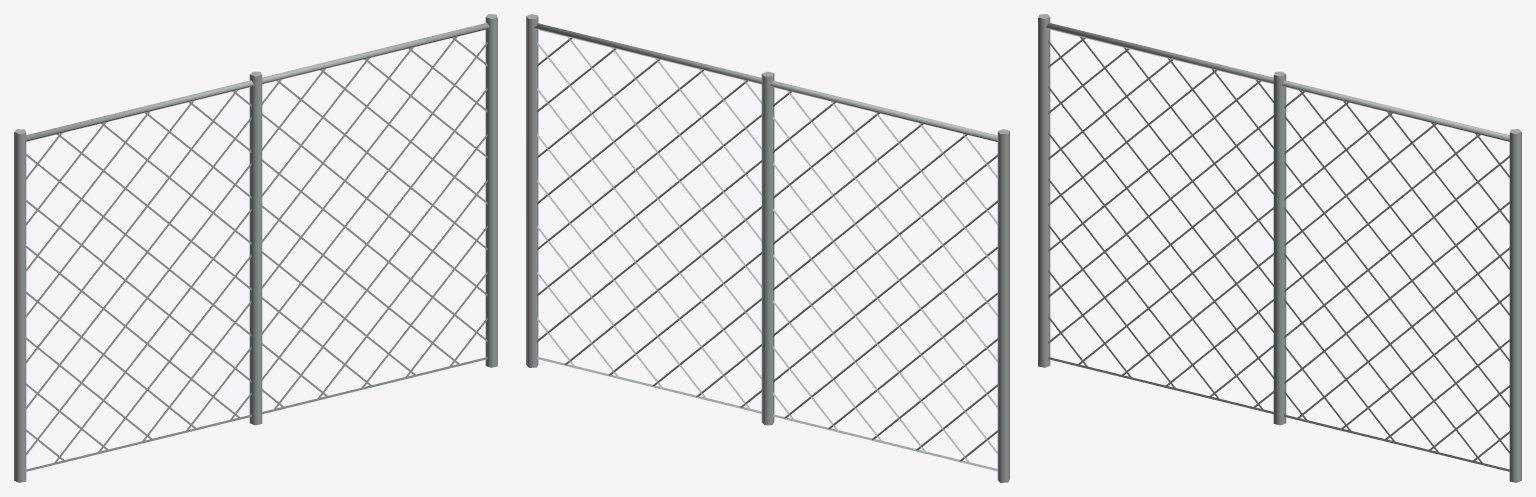
The model's file is chainlink_fence.glb.
3 views of the same model, side by side, from view 1: azimuth 30°, elevation 25°; view 2: azimuth 150°, elevation 25°; view 3: azimuth 330°, elevation 25° (orthographic).
Visible parts, largest first — view 1: chainlink_fence; view 2: chainlink_fence; view 3: chainlink_fence.
Part boxes in pixels (x1,y1,x2,y2): chainlink_fence: (14,14,497,482); chainlink_fence: (526,14,1009,482); chainlink_fence: (1038,14,1521,482).
Size of the model in its own units: 2.97 by 2.05 by 0.0633.
1 material, 1 textured.
